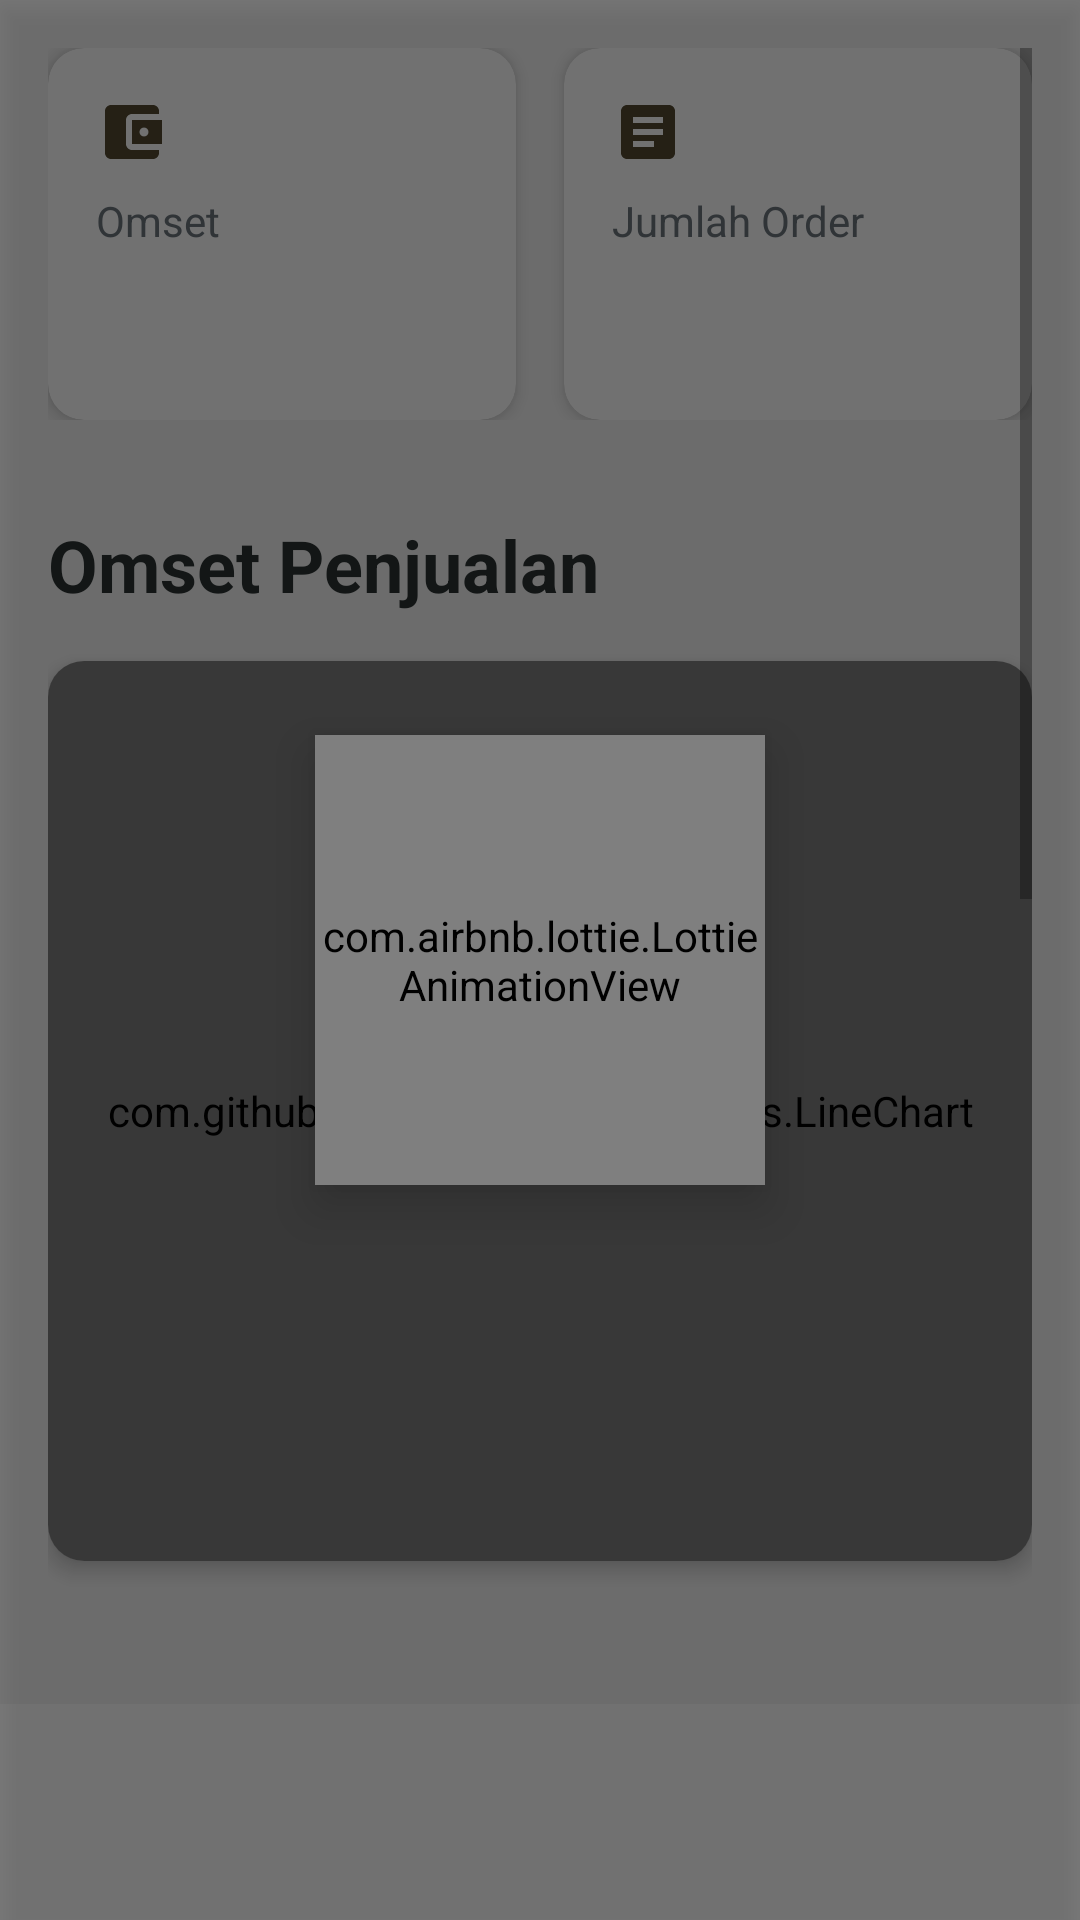

Icons on this 1080 × 1920 Android screen, each with the point to tap as (x,y):
wallet: (133,132)
